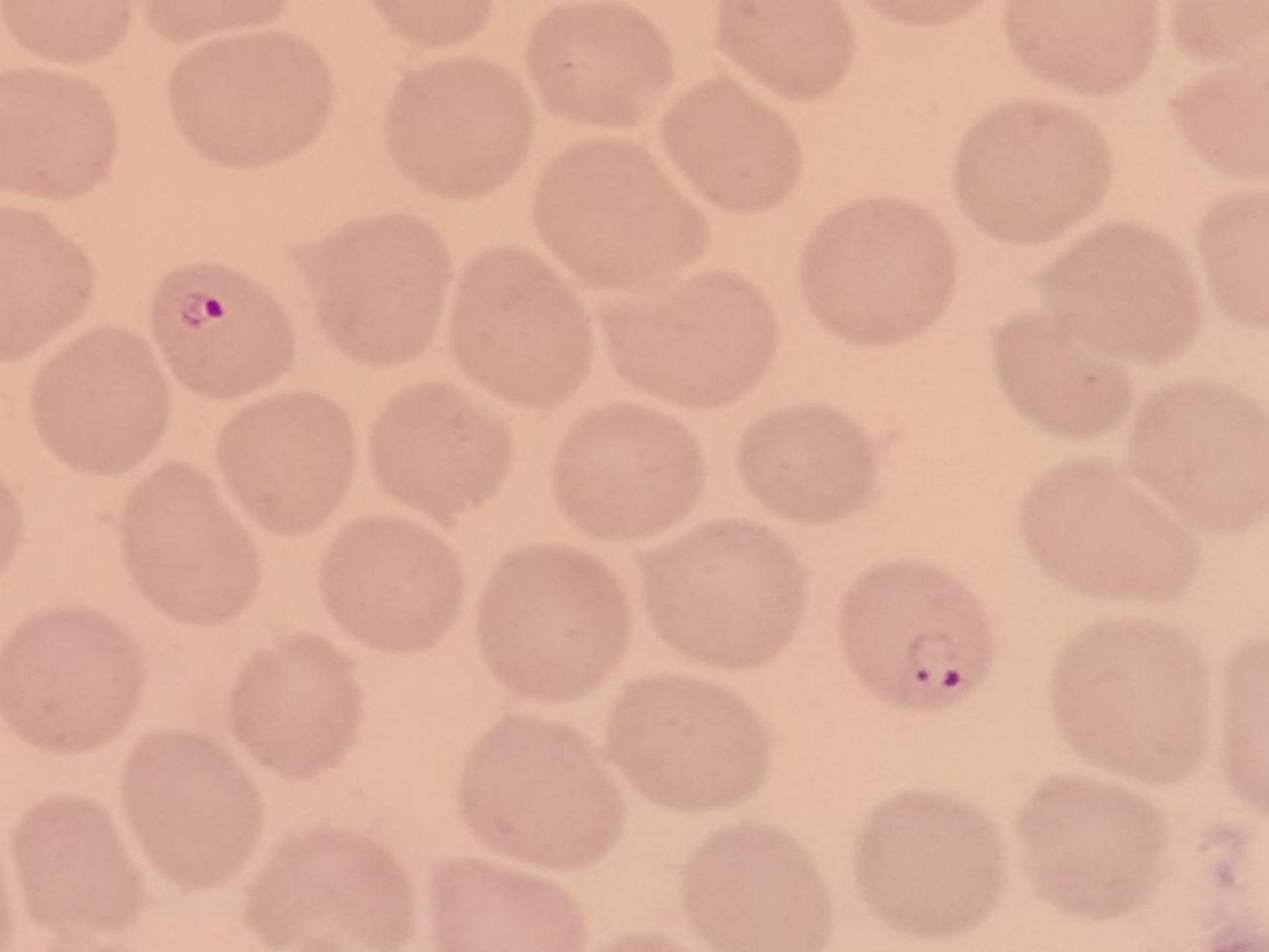Infected: (837, 559, 992, 710), (154, 262, 305, 400)
Uninfected: (531, 141, 704, 289), (455, 715, 621, 869), (299, 213, 457, 371), (1053, 622, 1206, 784), (601, 270, 773, 412), (118, 462, 264, 628), (642, 519, 802, 670), (445, 248, 593, 406), (1023, 464, 1191, 602), (477, 546, 629, 698), (1037, 223, 1197, 367), (799, 197, 956, 343), (607, 675, 769, 813), (122, 731, 264, 888), (170, 32, 332, 166), (852, 794, 1003, 937), (383, 57, 535, 197), (317, 517, 466, 657), (549, 402, 699, 541), (369, 382, 514, 525), (954, 102, 1106, 238), (1017, 778, 1161, 920), (0, 609, 139, 756), (215, 390, 355, 532), (1130, 384, 1268, 528), (31, 324, 165, 472), (245, 832, 410, 951), (678, 823, 829, 950), (11, 793, 143, 935), (660, 79, 801, 211), (229, 637, 361, 778), (524, 2, 674, 125), (997, 309, 1135, 431), (739, 403, 876, 525), (2, 65, 114, 201), (1, 208, 95, 361), (432, 858, 581, 949), (1011, 2, 1155, 95), (719, 1, 851, 98), (1169, 68, 1268, 182)
